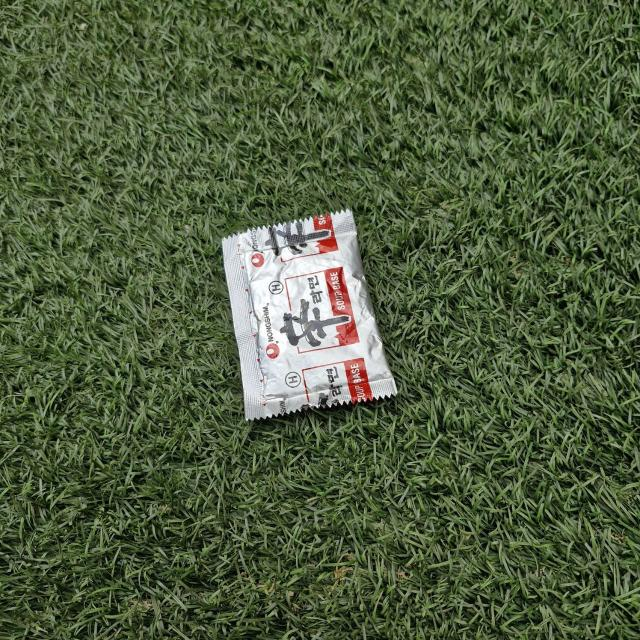plastic: (214, 202, 406, 434)
